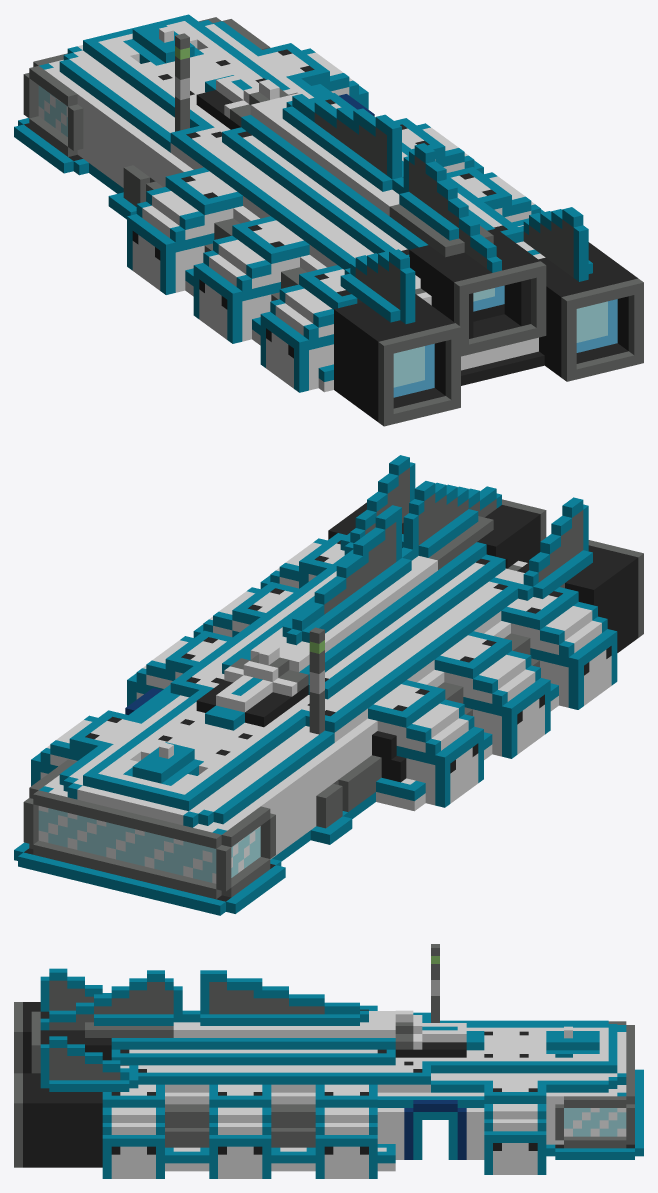
File: spaceship mk4.obj
3 views of the same model, one above another, from view 1: azimuth 30°, elevation 25°; view 2: azimuth 150°, elevation 25°; view 3: azimuth 270°, elevation 25° (orthographic). The views are drawn at different scales.
Size of the model in its own units: 33 by 18 by 71.
